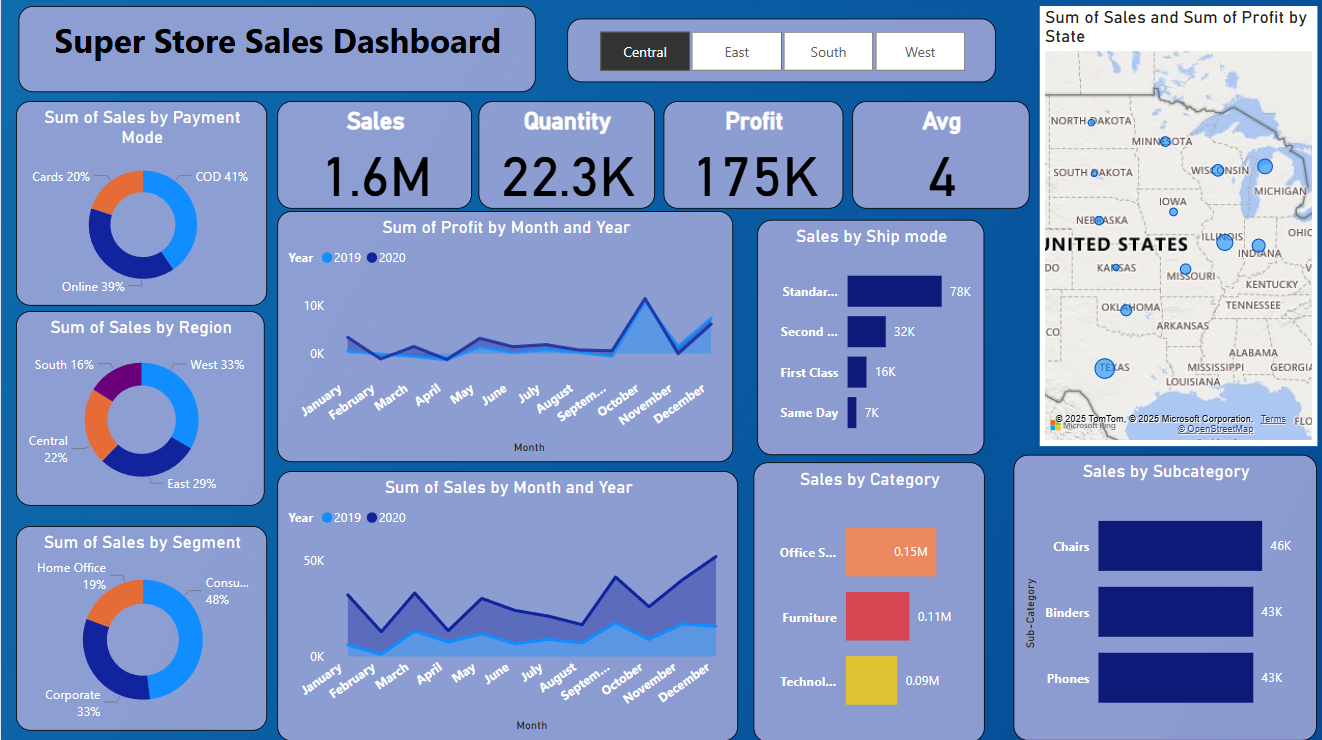

What the dashboard file says about the page in this screenshot:
{"tool":"powerbi","page":{"name":"Page 1","canvas":[1280,720],"ordinal":0},"visuals":[{"type":"clusteredBarChart","title":" Sales by Category","fields":{"Category":["SuperStore_Sales_Dataset (2).Category"],"Y":["Sum(SuperStore_Sales_Dataset (2).Sales)"]},"box":[726.3,450,223.2,270.2],"z":0},{"type":"clusteredBarChart","title":" Sales by Subcategory","fields":{"Category":["SuperStore_Sales_Dataset (2).Sub-Category"],"Y":["Sum(SuperStore_Sales_Dataset (2).Sales)"]},"box":[977.2,442.8,293.2,276.3],"z":1000},{"type":"clusteredBarChart","title":" Sales by Ship mode","fields":{"Category":["SuperStore_Sales_Dataset (2).Ship Mode"],"Y":["Sum(SuperStore_Sales_Dataset (2).Sales)"]},"box":[729.9,216,219.6,226.8],"z":2000},{"type":"stackedAreaChart","fields":{"Y":["Sum(SuperStore_Sales_Dataset (2).Sales)"],"Category":["SuperStore_Sales_Dataset (2).Order Date.Variation.Date Hierarchy.Month","SuperStore_Sales_Dataset (2).Order Date.Variation.Date Hierarchy.Day"],"Series":["SuperStore_Sales_Dataset (2).Order Date.Variation.Date Hierarchy.Year"]},"box":[266.6,458.4,445.2,260.6],"z":3000},{"type":"stackedAreaChart","fields":{"Category":["SuperStore_Sales_Dataset (2).Order Date.Variation.Date Hierarchy.Month","SuperStore_Sales_Dataset (2).Order Date.Variation.Date Hierarchy.Day"],"Series":["SuperStore_Sales_Dataset (2).Order Date.Variation.Date Hierarchy.Year"],"Y":["Sum(SuperStore_Sales_Dataset (2).Profit)"]},"box":[266.6,207.5,440.4,242.5],"z":4000},{"type":"donutChart","fields":{"Category":["SuperStore_Sales_Dataset.Segment"],"Y":["Sum(SuperStore_Sales_Dataset.Sales)"]},"box":[14.5,511.5,242.5,197.9],"z":5000},{"type":"donutChart","fields":{"Y":["Sum(SuperStore_Sales_Dataset (2).Sales)"],"Category":["SuperStore_Sales_Dataset (2).Payment Mode"]},"box":[14.5,101.3,242.5,197.9],"z":6000},{"type":"slicer","fields":{"Values":["SuperStore_Sales_Dataset (2).Region"]},"box":[546.3,21.7,413.7,61.5],"z":7000},{"type":"textbox","box":[16.9,9.6,499.3,83.2],"z":8000},{"type":"map","fields":{"Category":["SuperStore_Sales_Dataset (2).State"],"Size":["Sum(SuperStore_Sales_Dataset (2).Sales)"]},"box":[1002.2,9.6,267.7,424.5],"z":9000},{"type":"card","title":"Sales","fields":{"Values":["Sum(SuperStore_Sales_Dataset.Sales)"]},"box":[266.6,101.3,188.2,103.8],"z":10000},{"type":"card","title":"Quantity","fields":{"Values":["Sum(SuperStore_Sales_Dataset.Quantity)"]},"box":[460.9,101.3,170.1,103.8],"z":11000},{"type":"card","title":"Profit","fields":{"Values":["Sum(SuperStore_Sales_Dataset.Profit)"]},"box":[639.4,101.3,173.7,103.8],"z":12000},{"type":"card","title":"Avg","fields":{"Values":["Avg(SuperStore_Sales_Dataset.Avgdelivery)"]},"box":[821.6,101.3,171.3,103.8],"z":13000},{"type":"donutChart","fields":{"Category":["SuperStore_Sales_Dataset.Region"],"Y":["Sum(SuperStore_Sales_Dataset.Sales)"]},"box":[14.5,304,240.1,188.2],"z":14000}]}

Visuals, with their boxes in screenshot pixels (x1, y1, x2, y2), scaled from the page's 1280x720 canvas onto the 1322x740 screenshot:
" Sales by Category" clusteredBarChart: bbox=[750, 462, 981, 739]
" Sales by Subcategory" clusteredBarChart: bbox=[1009, 455, 1312, 739]
" Sales by Ship mode" clusteredBarChart: bbox=[754, 222, 981, 455]
stackedAreaChart - Sum(SuperStore_Sales_Dataset (2).Sales) x SuperStore_Sales_Dataset (2).Order Date.Variation.Date Hierarchy.Month: bbox=[275, 471, 735, 739]
stackedAreaChart - SuperStore_Sales_Dataset (2).Order Date.Variation.Date Hierarchy.Month x SuperStore_Sales_Dataset (2).Order Date.Variation.Date Hierarchy.Day: bbox=[275, 213, 730, 462]
donutChart - SuperStore_Sales_Dataset.Segment x Sum(SuperStore_Sales_Dataset.Sales): bbox=[15, 526, 265, 729]
donutChart - Sum(SuperStore_Sales_Dataset (2).Sales) x SuperStore_Sales_Dataset (2).Payment Mode: bbox=[15, 104, 265, 308]
slicer - SuperStore_Sales_Dataset (2).Region: bbox=[564, 22, 991, 86]
textbox: bbox=[17, 10, 533, 95]
map - SuperStore_Sales_Dataset (2).State x Sum(SuperStore_Sales_Dataset (2).Sales): bbox=[1035, 10, 1312, 446]
"Sales" card: bbox=[275, 104, 470, 211]
"Quantity" card: bbox=[476, 104, 652, 211]
"Profit" card: bbox=[660, 104, 840, 211]
"Avg" card: bbox=[849, 104, 1025, 211]
donutChart - SuperStore_Sales_Dataset.Region x Sum(SuperStore_Sales_Dataset.Sales): bbox=[15, 312, 263, 506]
